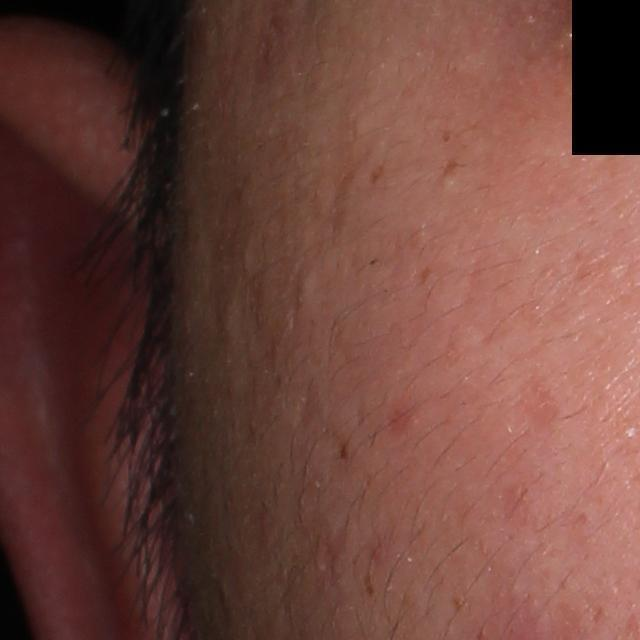comedo: (297, 266, 323, 303), (613, 422, 638, 447)
melasma: (370, 161, 387, 184)
